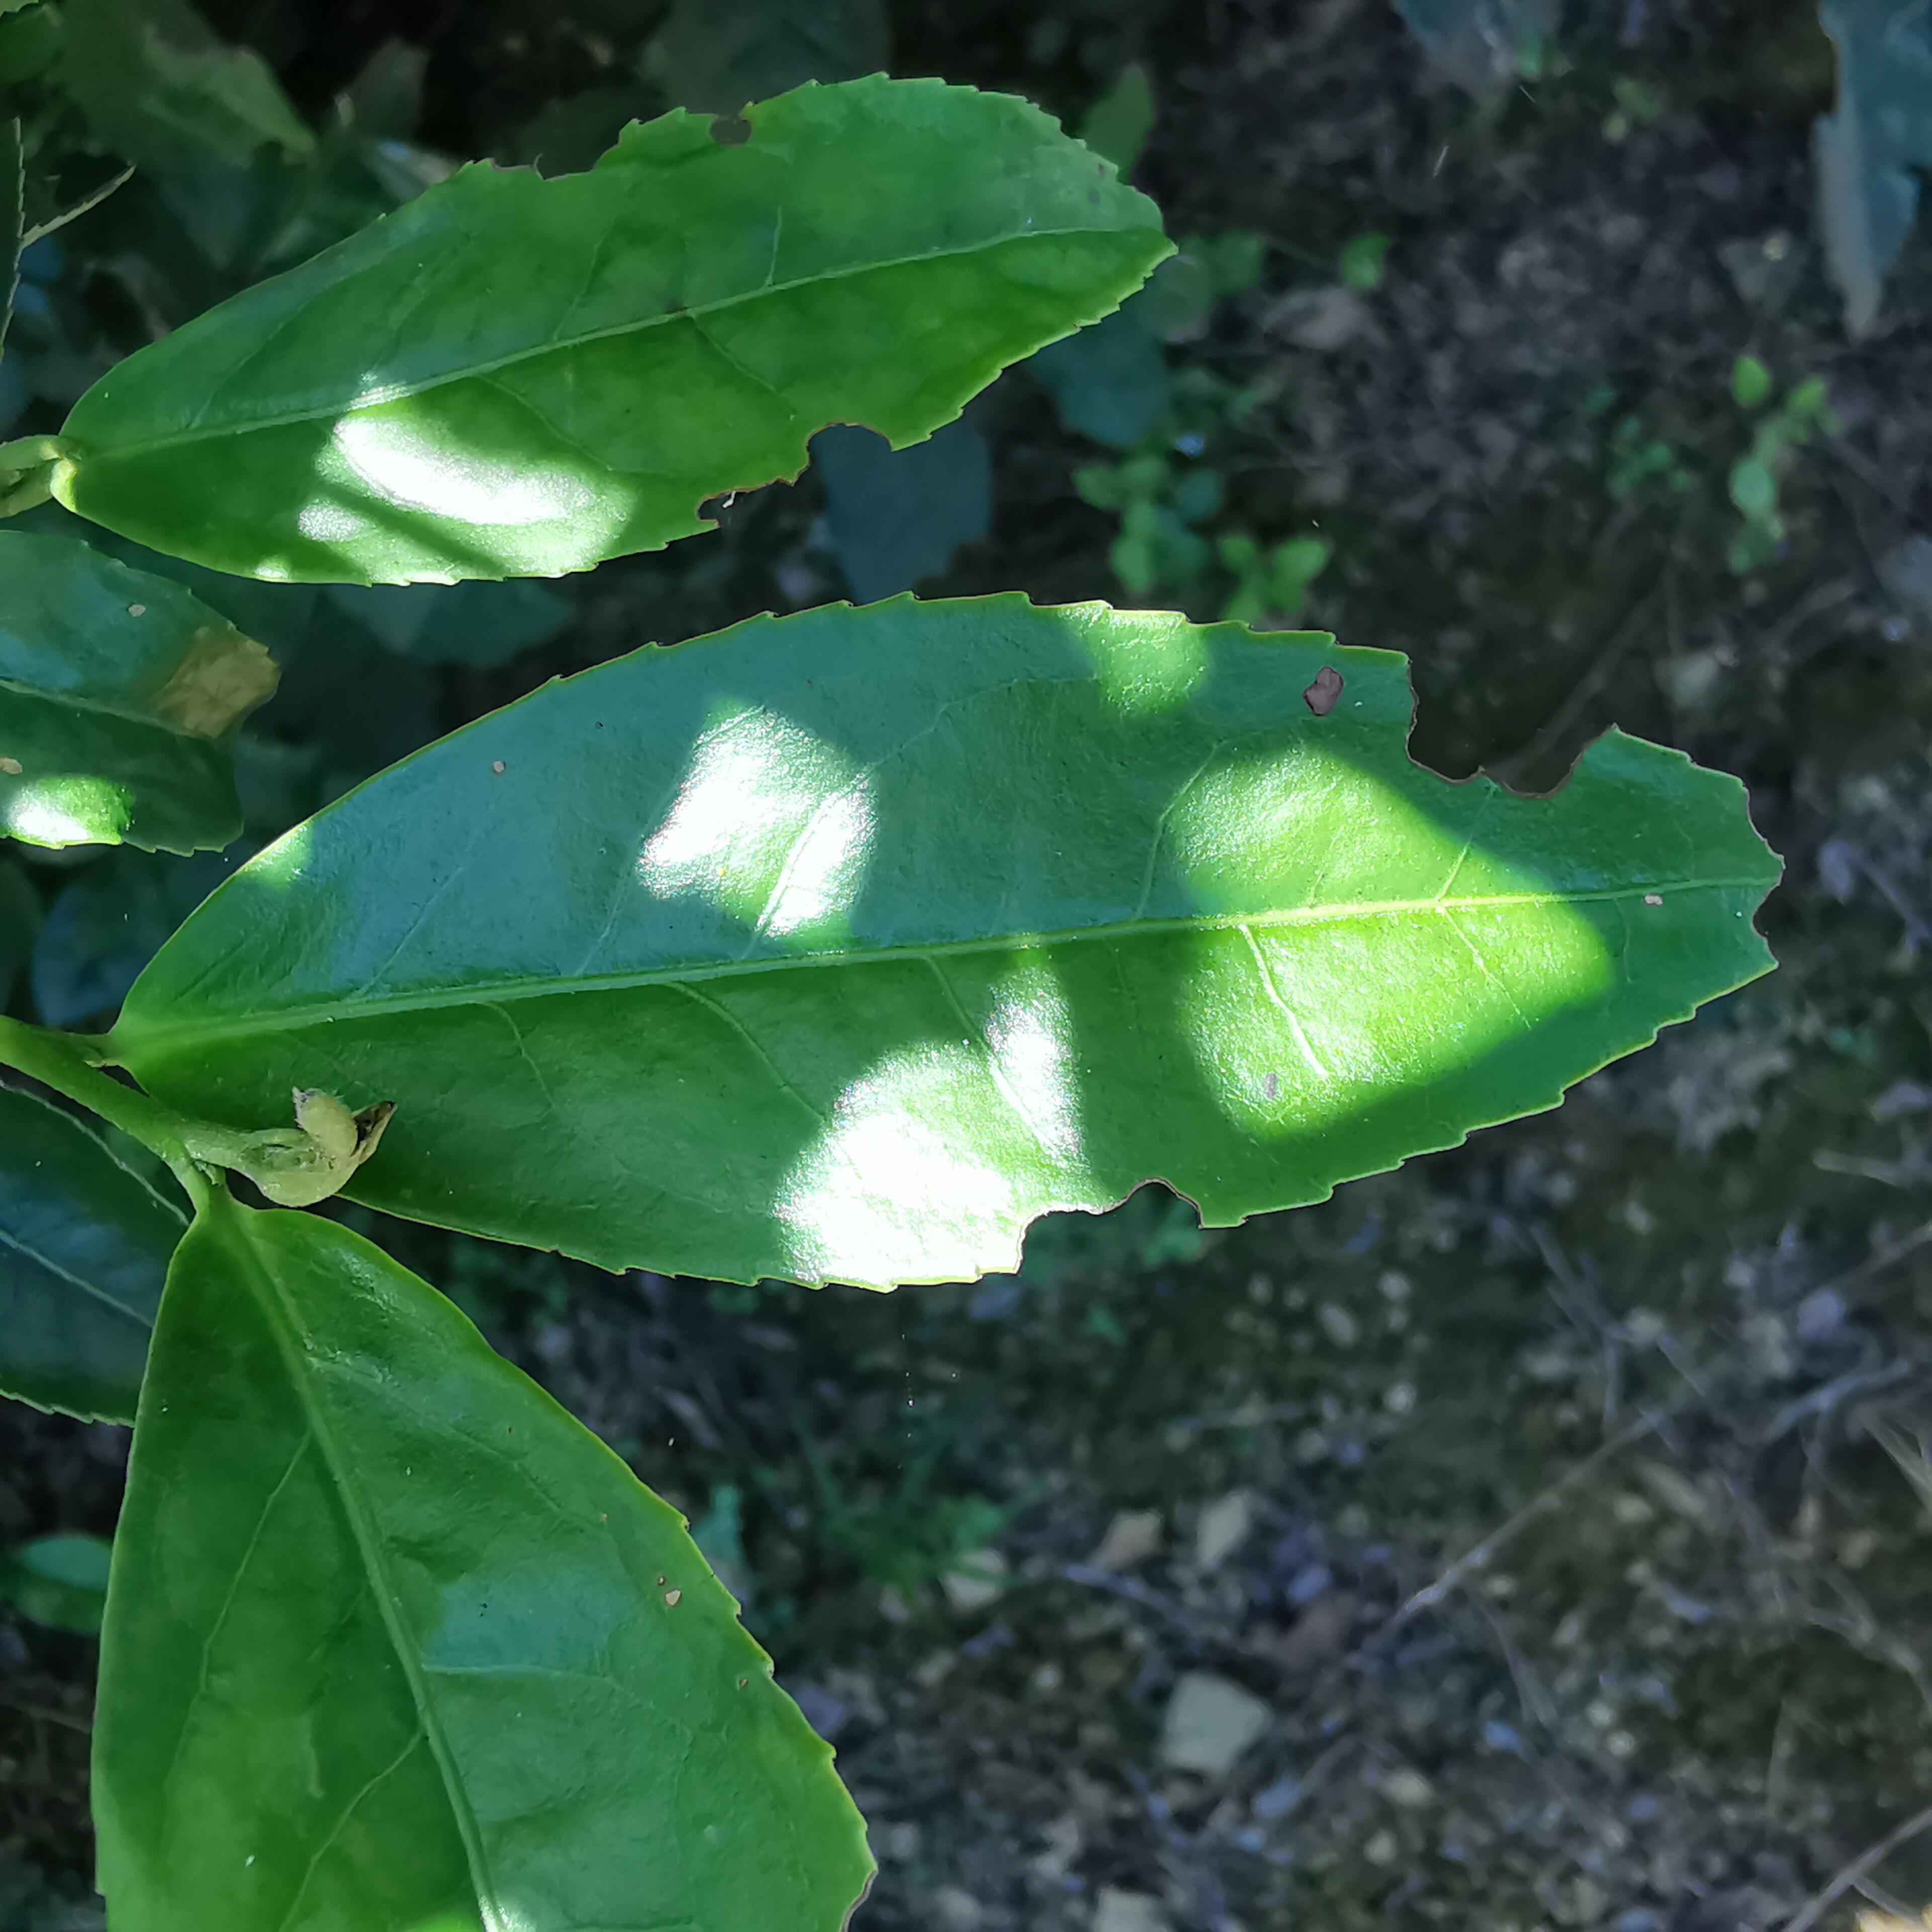chihuo_high: (122, 584, 1796, 1299), (55, 69, 1184, 589)
